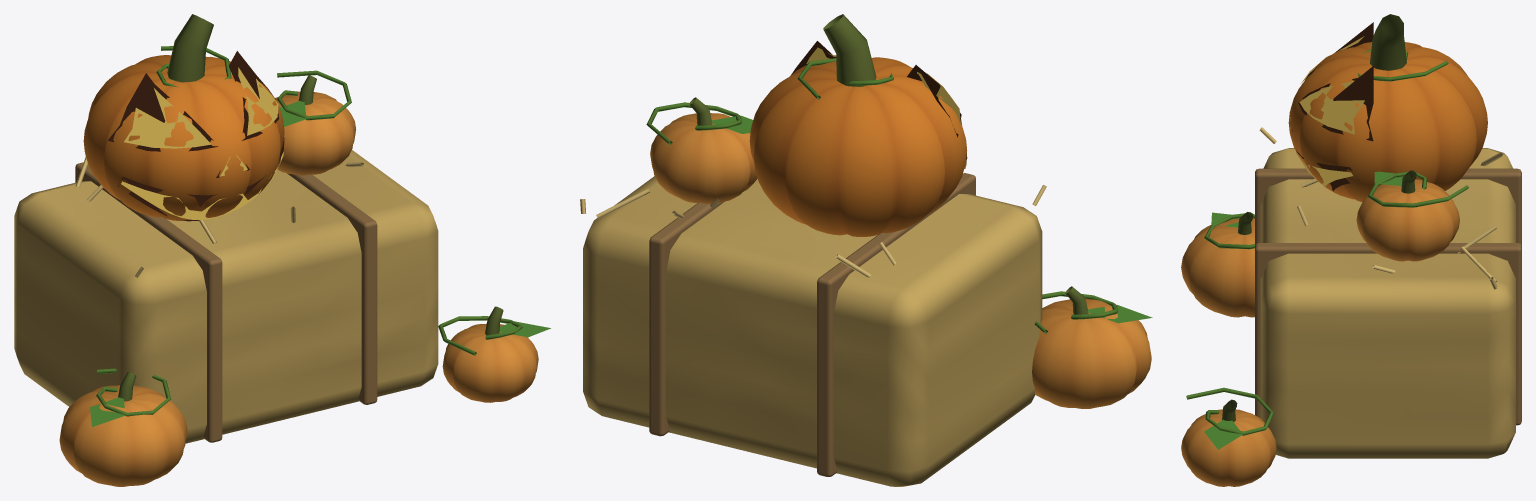
File: jack_stack.glb
The picture shows the model from 3 angles, left to right: view 1: azimuth 30°, elevation 25°; view 2: azimuth 150°, elevation 25°; view 3: azimuth 270°, elevation 25°; orthographic projection. The views are drawn at different scales.
Visible parts, largest first — view 1: jack_stack_main, jack_stack_glow; view 2: jack_stack_main; view 3: jack_stack_main, jack_stack_glow.
Part boxes in pixels (x1=…): jack_stack_main: x1=14, y1=14, x2=550, y2=486; jack_stack_glow: x1=121, y1=67, x2=283, y2=219; jack_stack_main: x1=580, y1=14, x2=1152, y2=486; jack_stack_main: x1=1181, y1=14, x2=1521, y2=486; jack_stack_glow: x1=1290, y1=36, x2=1364, y2=187.
Size of the model in its own units: 1.33 by 1.01 by 0.855.
